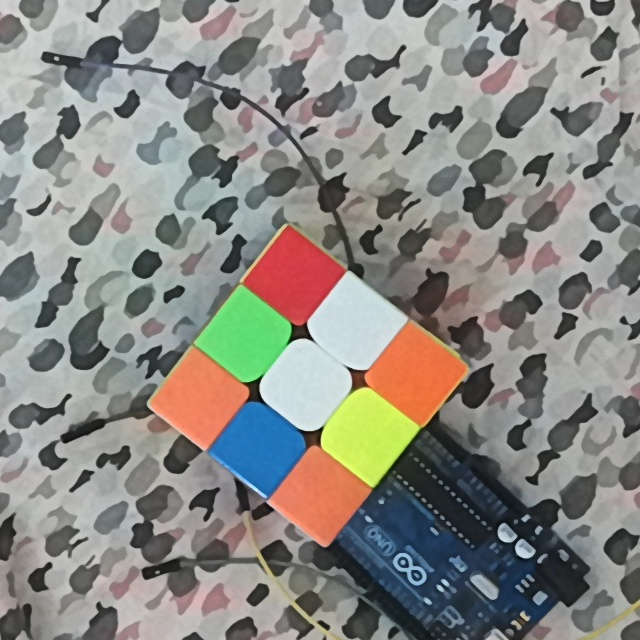tile: (389, 348, 442, 400), (328, 297, 379, 349), (295, 469, 346, 521), (232, 423, 284, 473), (172, 373, 223, 423), (219, 313, 271, 360), (270, 253, 317, 304), (280, 360, 327, 410), (341, 410, 388, 456)
